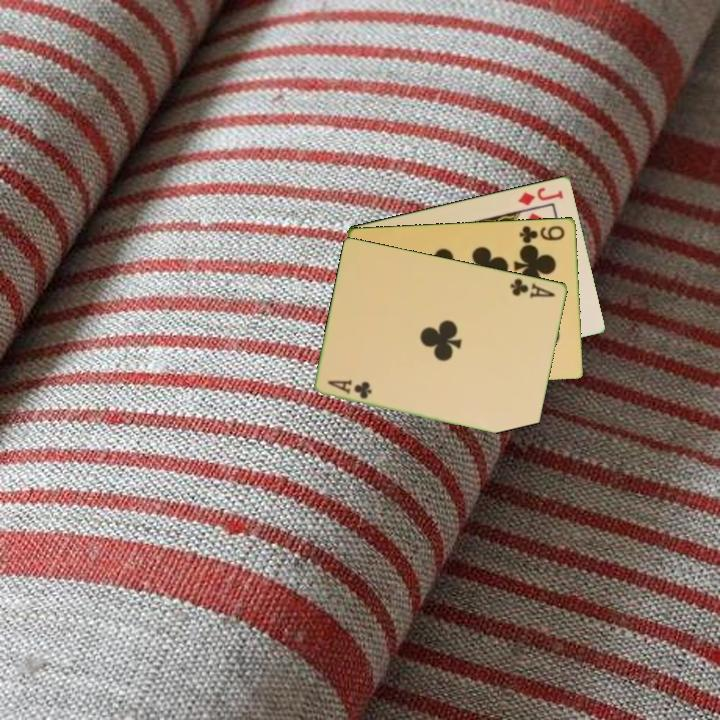9c: (516, 222, 568, 245)
Ac: (507, 274, 558, 301), (324, 375, 375, 402)
Jd: (515, 183, 566, 208)
